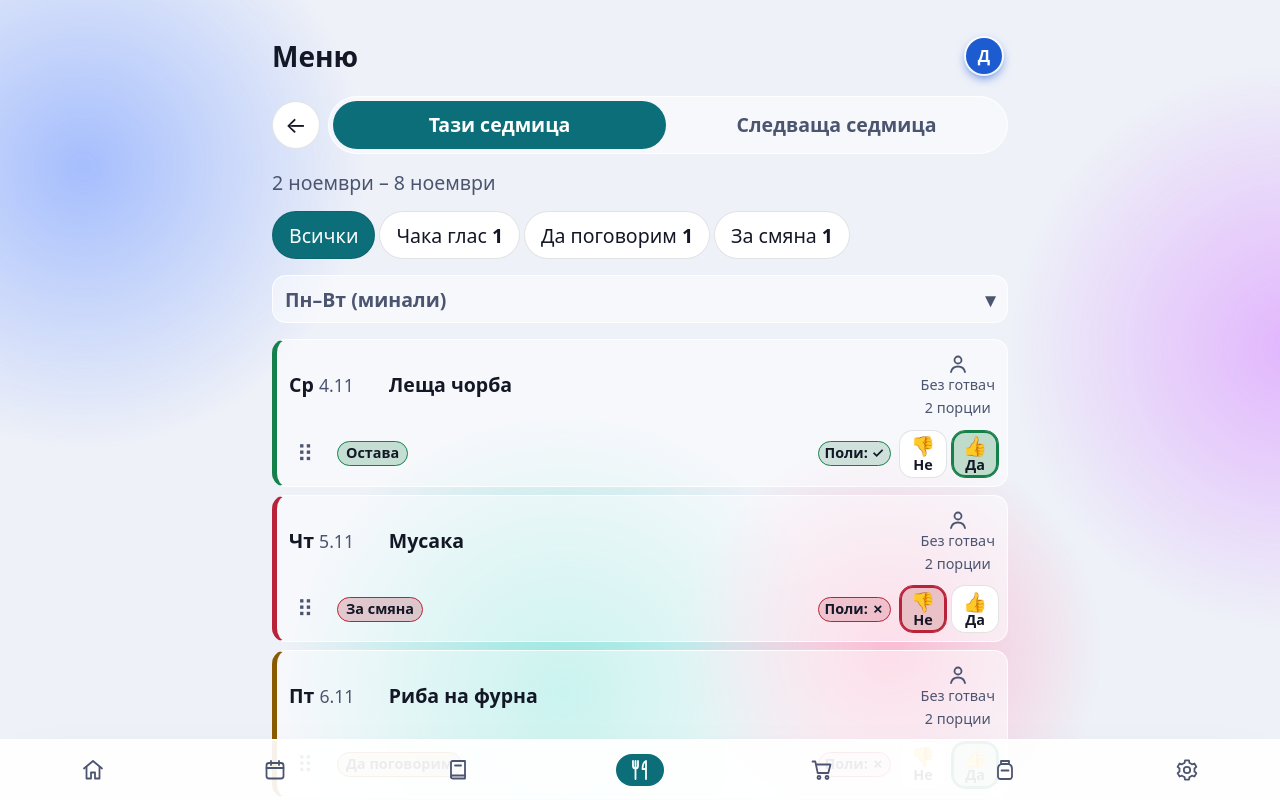
MenuWeek: гласове › миналите дни са само за четене: без бутони за глас и без изход
Click the button "Пн–Вт (минали) ▾" at (366, 299), box x1=272 y1=275 x2=1008 y2=323
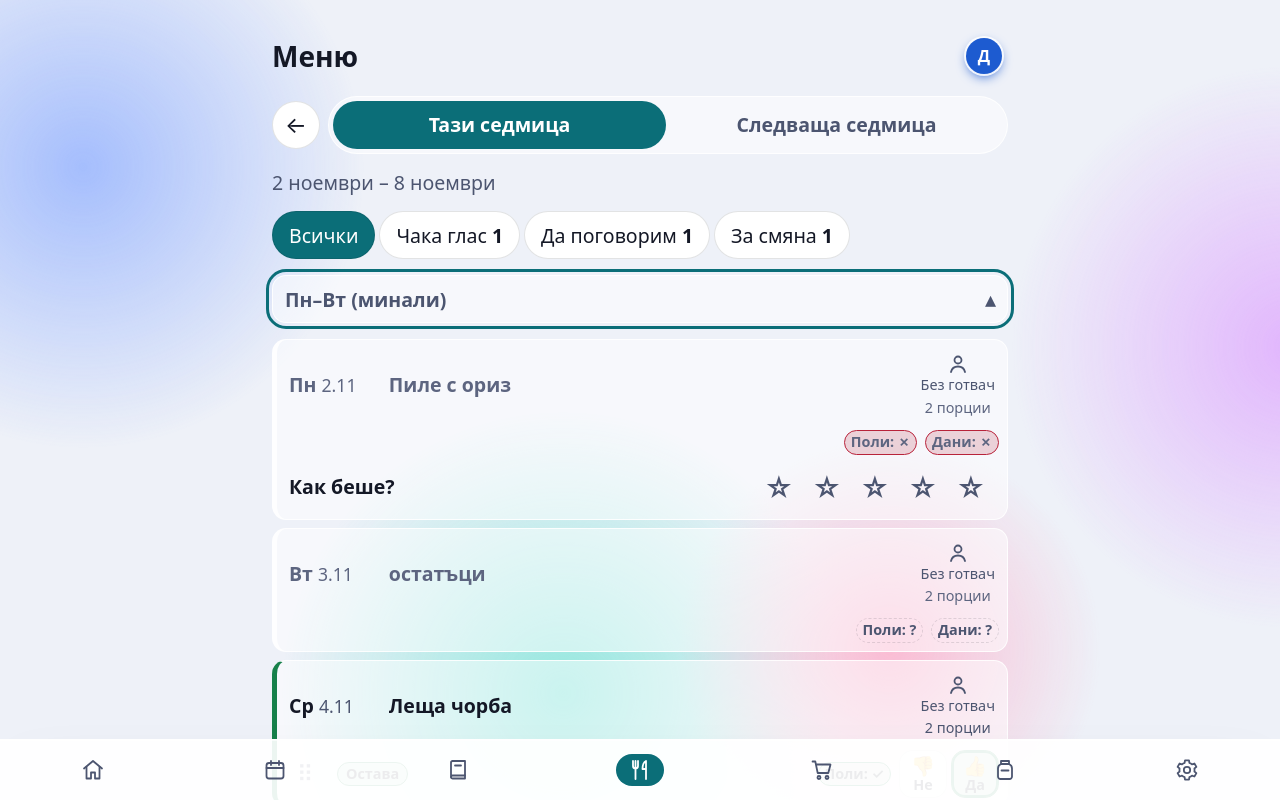
Expected: the list item that starts with "Пиле с ориз" does not show "За смяна", x1=272 y1=339 x2=1008 y2=520
Expected: the button "Пн–Вт (минали) ▴" is expanded, x1=272 y1=275 x2=1008 y2=323
